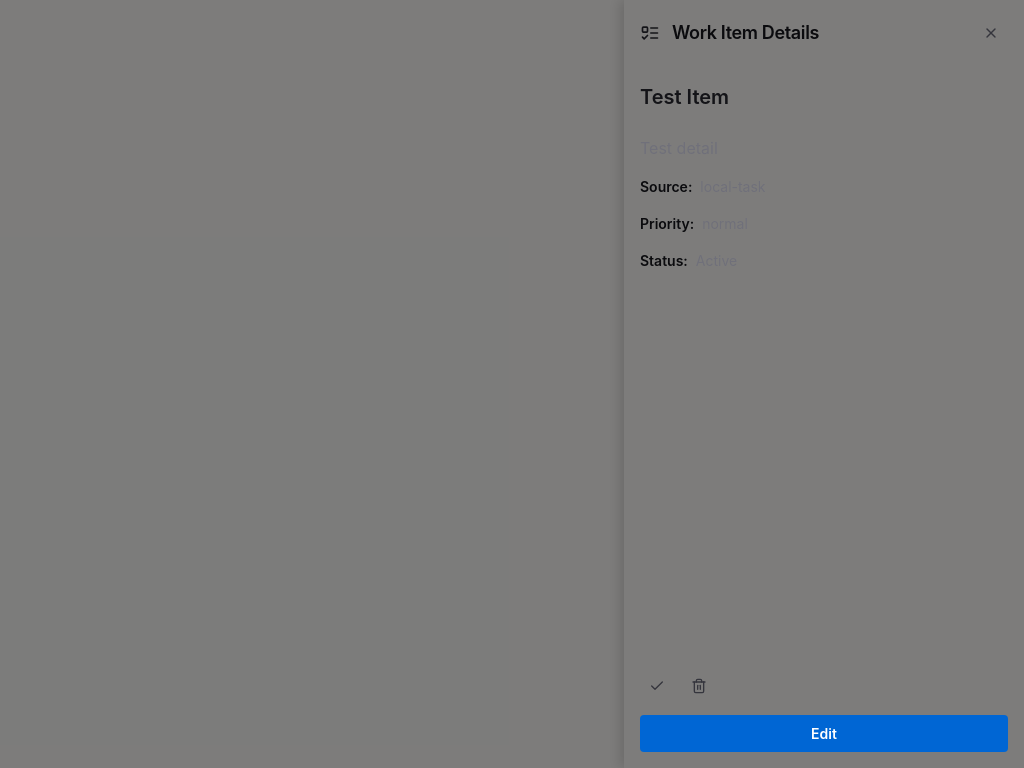
it: WorkItemDetailDrawer › shows edit form when edit button is clicked
Step 1. Click the button "Edit" → (824, 734), box [640,715,1008,752]
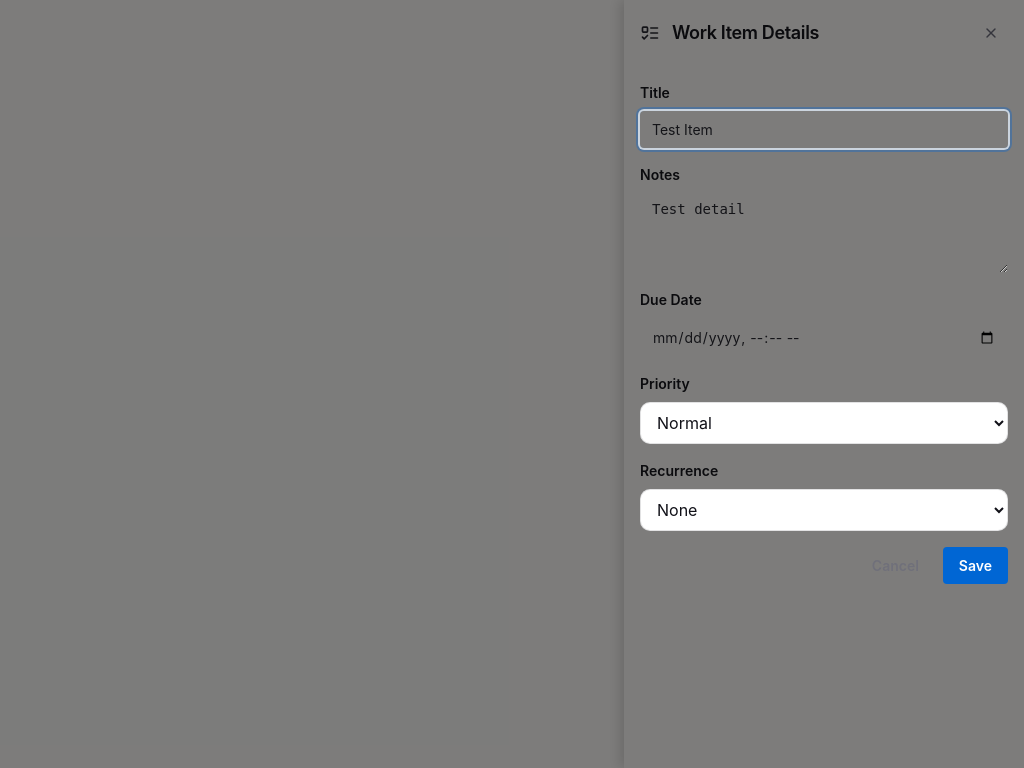
Expected: the field labelled "Title" is shown, [640,111,1008,148]
